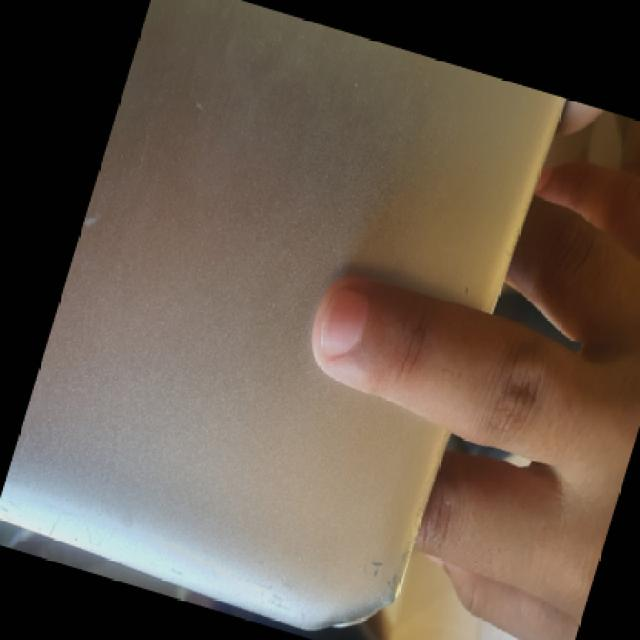Nail: (319, 287, 367, 355)
